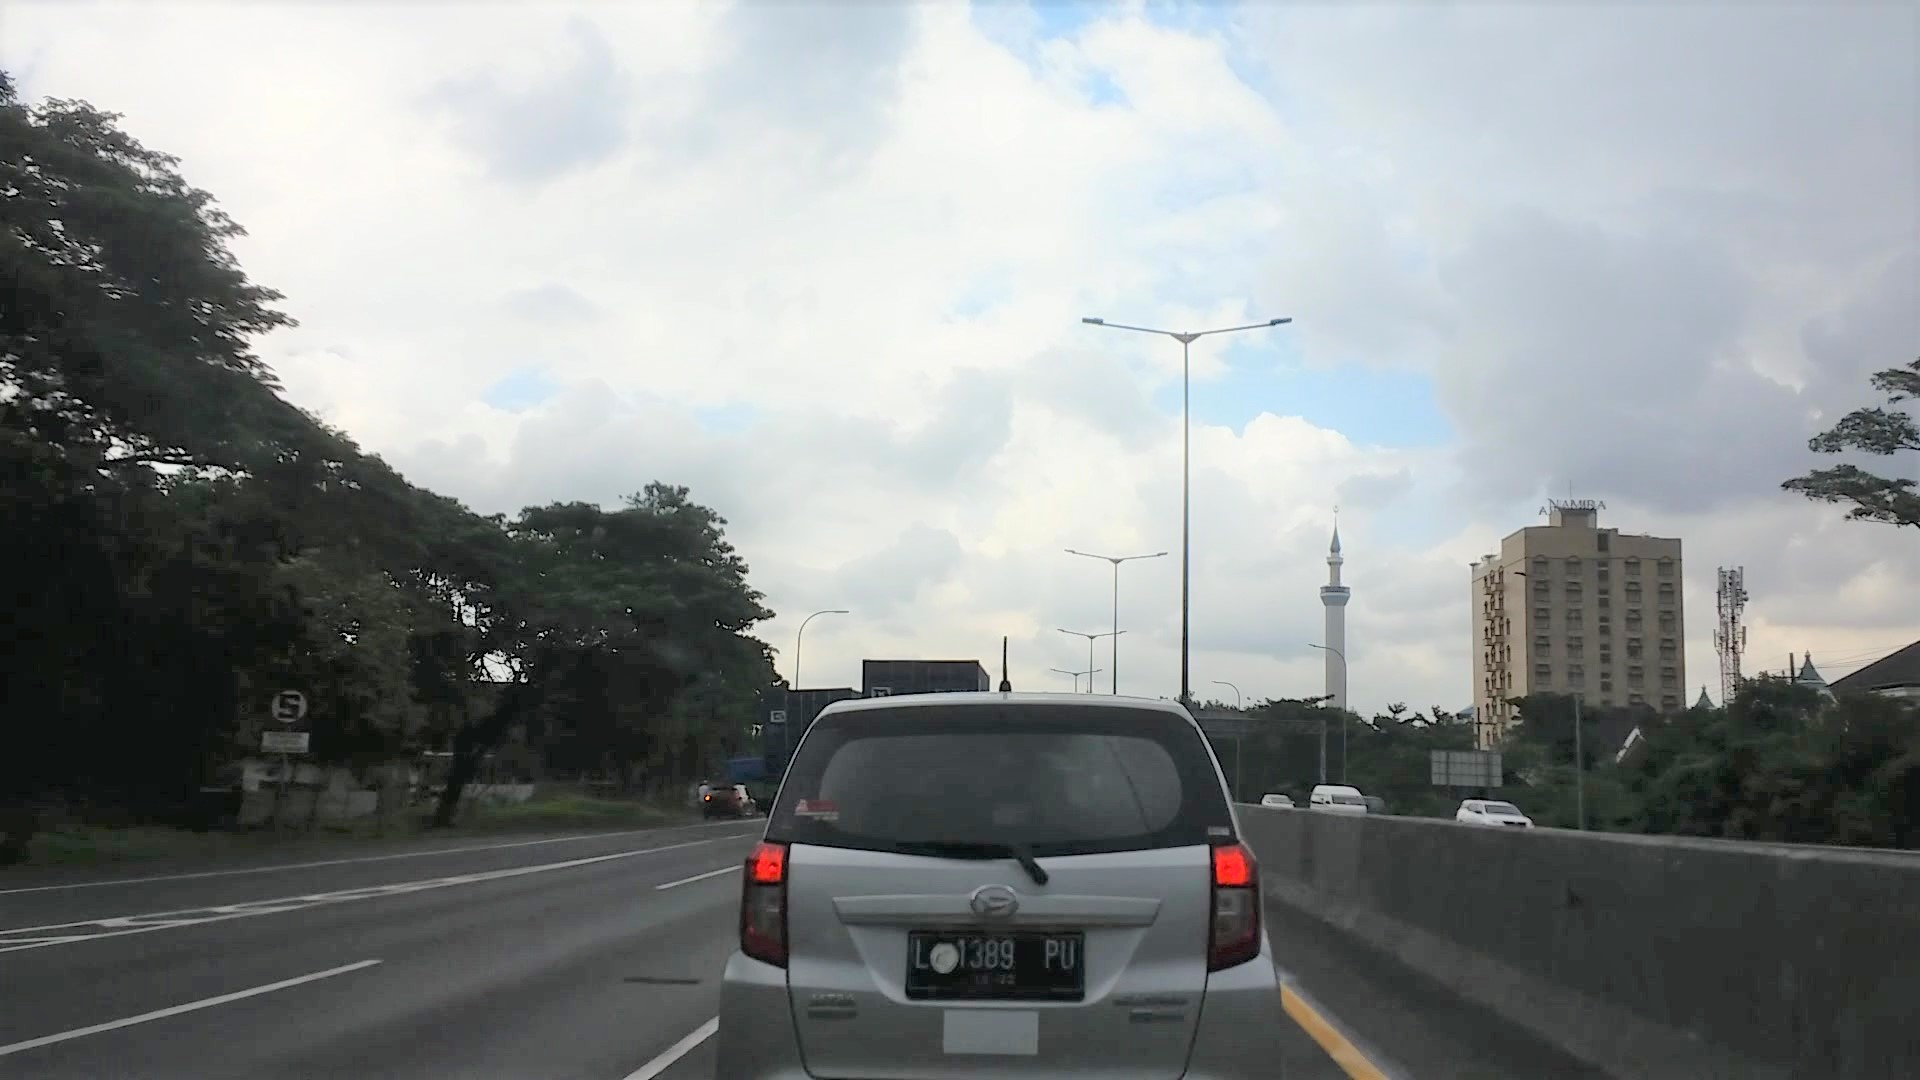plate_positive: (905, 928, 1085, 1004)
